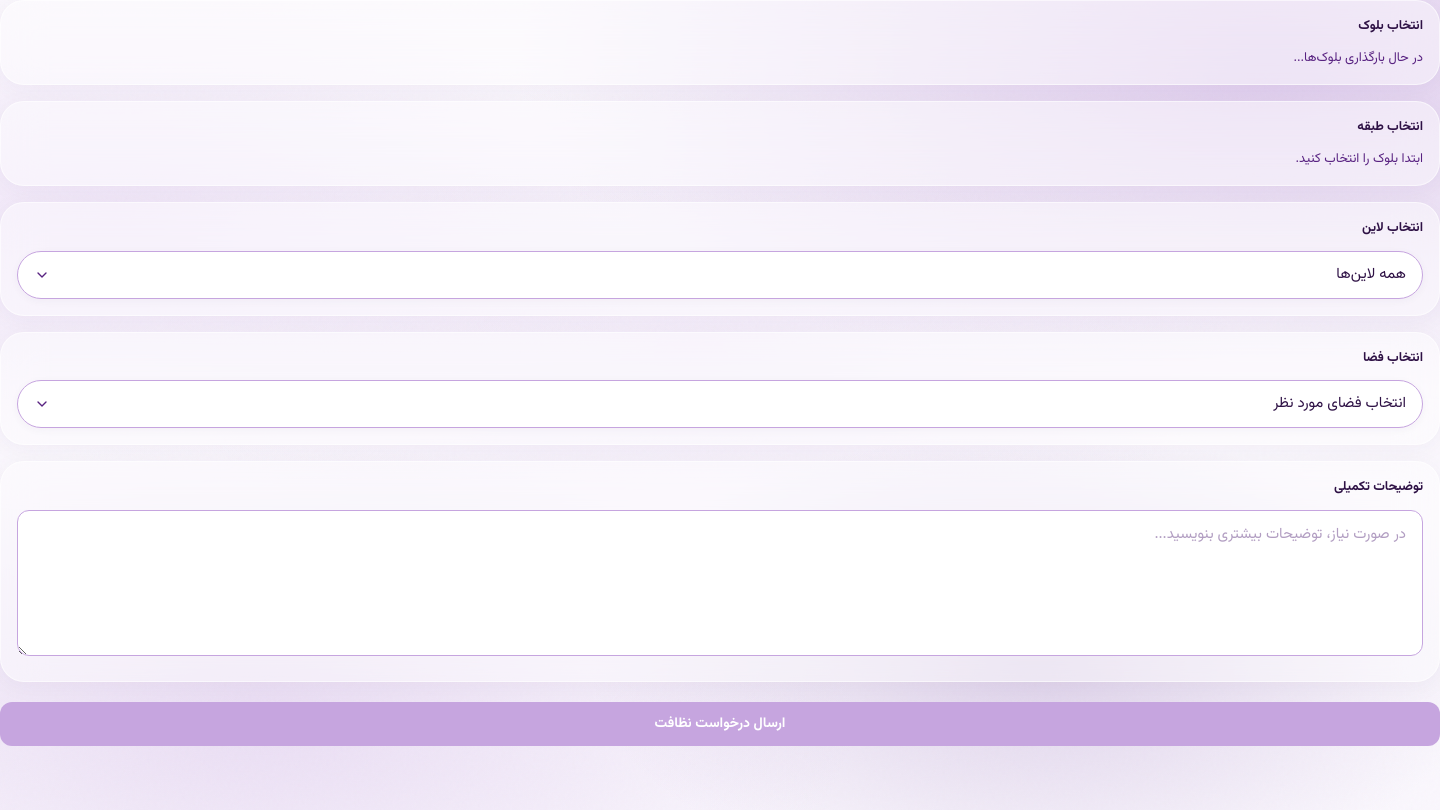
Cleaning Requests – Scenario 2: Submit with Missing Required Information › blocks submission and shows validation messages on the form
Click the button "ارسال درخواست نظافت": (720, 724) [0,702,1439,746]
(page scrolled)
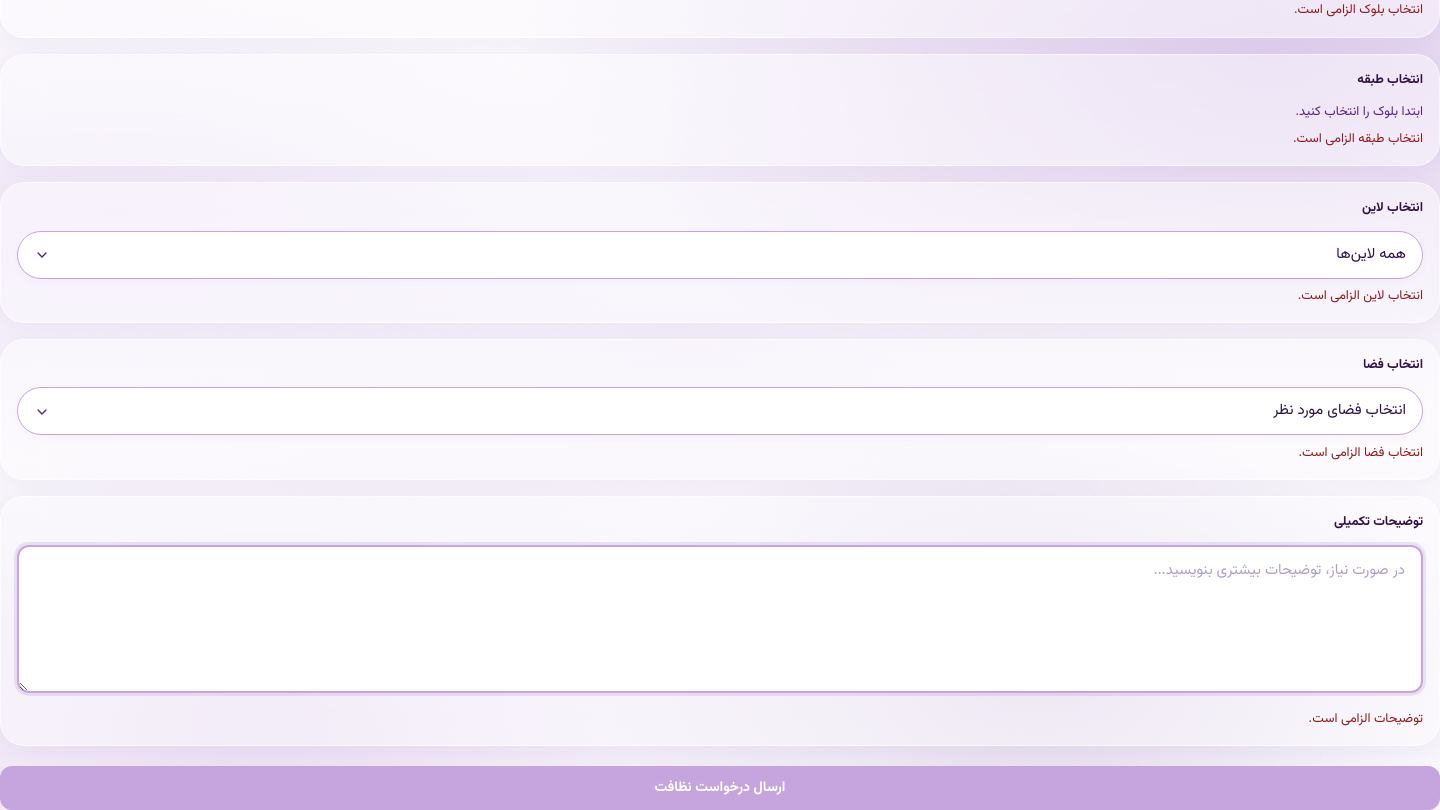
Result: the text "انتخاب بلوک الزامی است." is shown at [1294,0,1423,20]
Result: the text "انتخاب طبقه الزامی است." is shown at [1293,128,1423,148]
Result: the text "انتخاب لاین الزامی است." is shown at [1298,286,1423,306]
